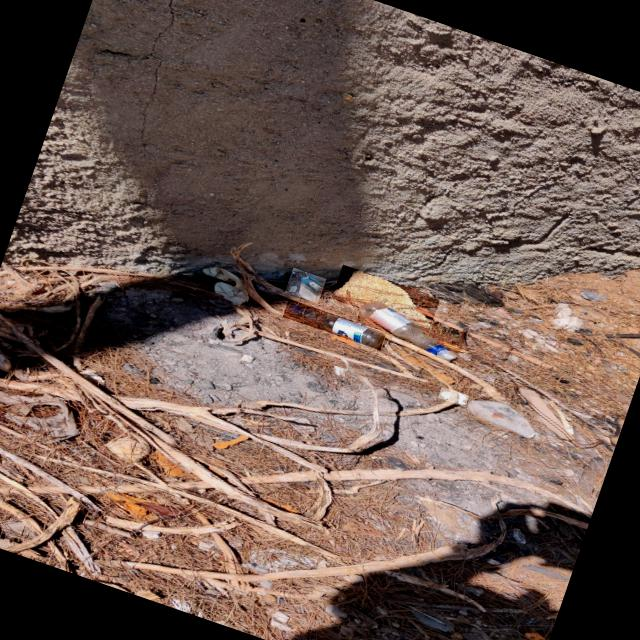Aluminium foil: (333, 365, 346, 373)
Bottle cap: (437, 351, 458, 361)
Clear plastic bottle: (359, 303, 457, 362), (285, 305, 384, 350)
Other Carton: (289, 272, 323, 302)
Styrofoam piece: (333, 273, 431, 329)
Unlabeled litter: (0, 391, 80, 441), (202, 267, 248, 305), (439, 392, 465, 405)
